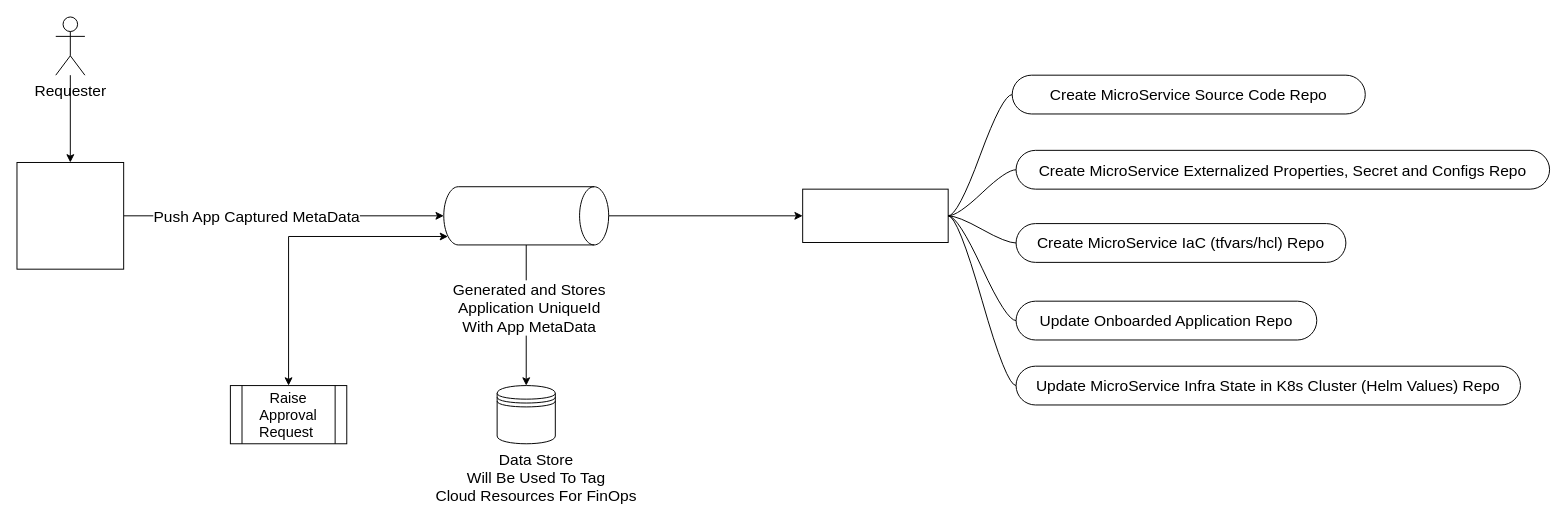
Some shapes in this 1567 by 529 pixel diagram are drawn without their labels. Here are the shapes that lost their labels. From the top down, the centre of each, then its label:
[70,215]: Application Onboarding Portal
[526,215]: Application Onboarding Pipeline
[875,215]: CreateAndUpdate Git Repositories
